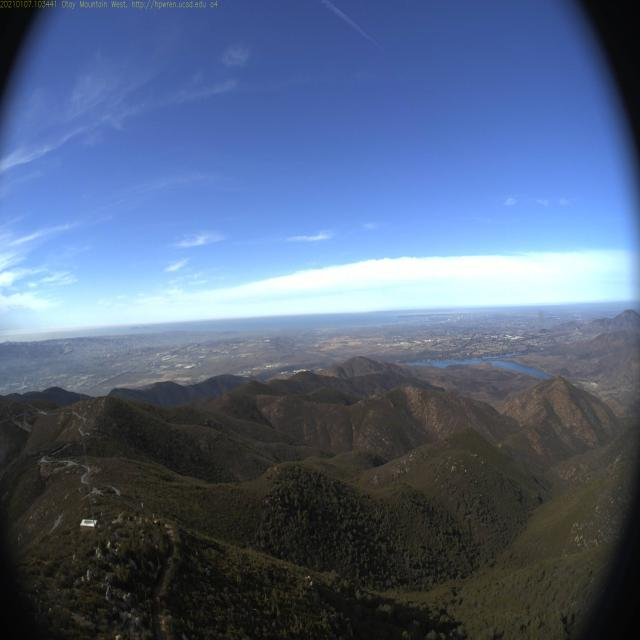smoke: (535, 310, 550, 330)
